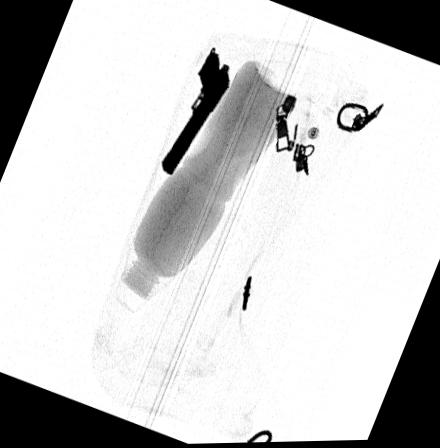Gun: (158, 50, 229, 176)
